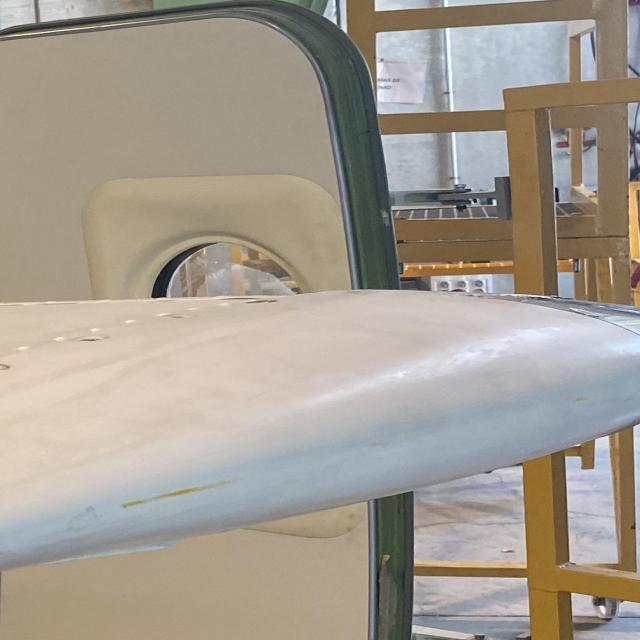Missing-head: (0, 361, 10, 372)
Paint-off: (65, 504, 126, 554)
